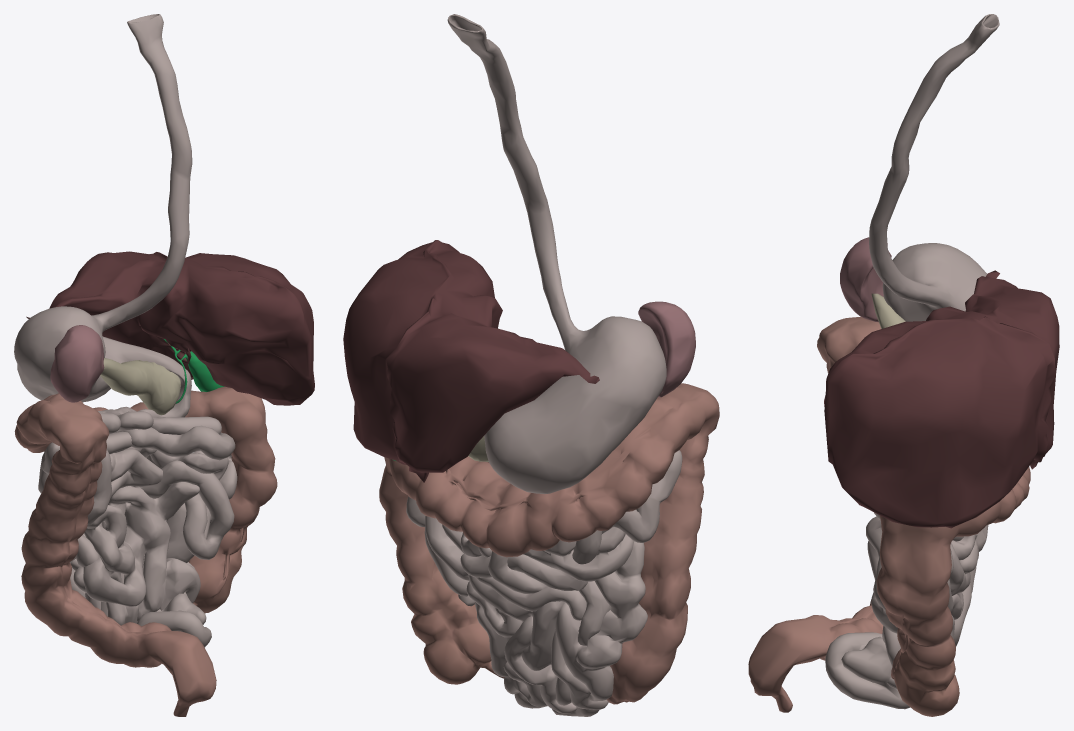
File: body.glb
The picture shows the model from 3 angles, left to right: view 1: azimuth 30°, elevation 25°; view 2: azimuth 150°, elevation 25°; view 3: azimuth 270°, elevation 25°; orthographic projection. The views are drawn at different scales.
Parts seen in each view (by area): view 1: Dikke_darms; view 2: Dikke_darms; view 3: Dikke_darms.
Part boxes in pixels (x1,y1,x2,y2): Dikke_darms: (14, 14, 314, 716); Dikke_darms: (343, 14, 719, 716); Dikke_darms: (748, 14, 1059, 716).
Size of the model in its own units: 21.8 by 47.98 by 18.75.
